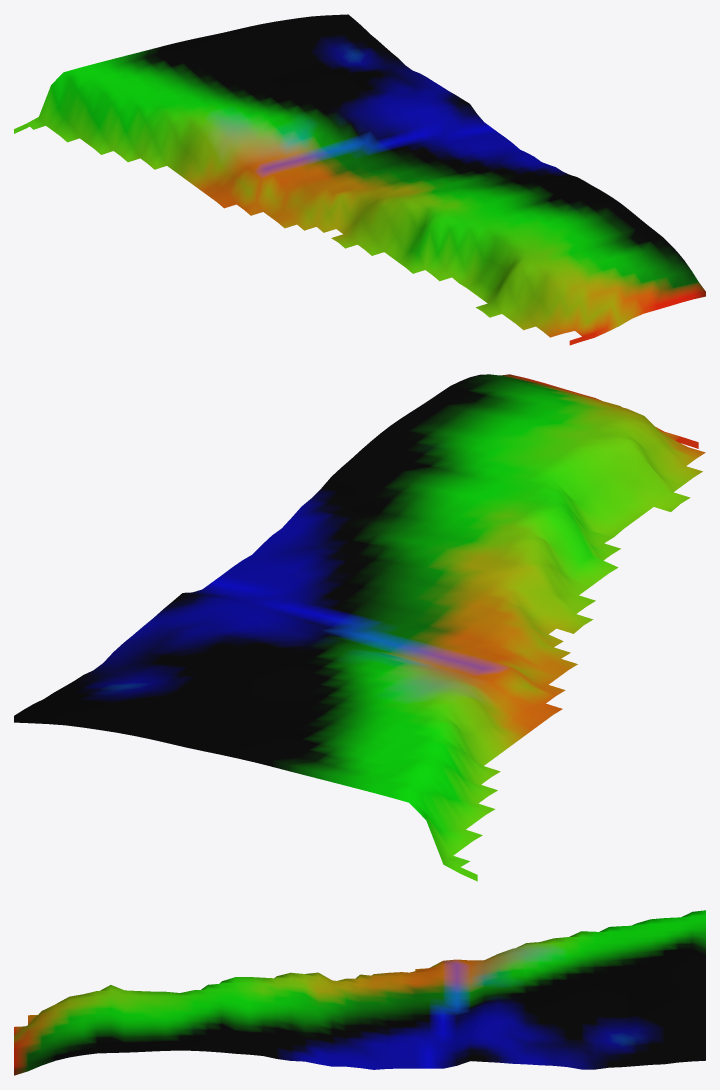
Rendered from coast_9_11.glb.
The picture shows the model from 3 angles, top to bottom: view 1: azimuth 30°, elevation 25°; view 2: azimuth 150°, elevation 25°; view 3: azimuth 270°, elevation 25°; orthographic projection. The views are drawn at different scales.
Parts seen in each view (by area): view 1: terrain; view 2: terrain; view 3: terrain.
Boxes of the visible parts, x1,y1,x2,y2 form: terrain: (14, 14, 705, 345); terrain: (14, 374, 705, 881); terrain: (14, 910, 705, 1075).
Size of the model in its own units: 108 by 16.07 by 200.
